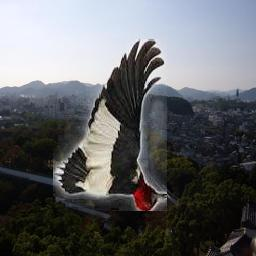Woodpecker: (53, 39, 167, 211)
